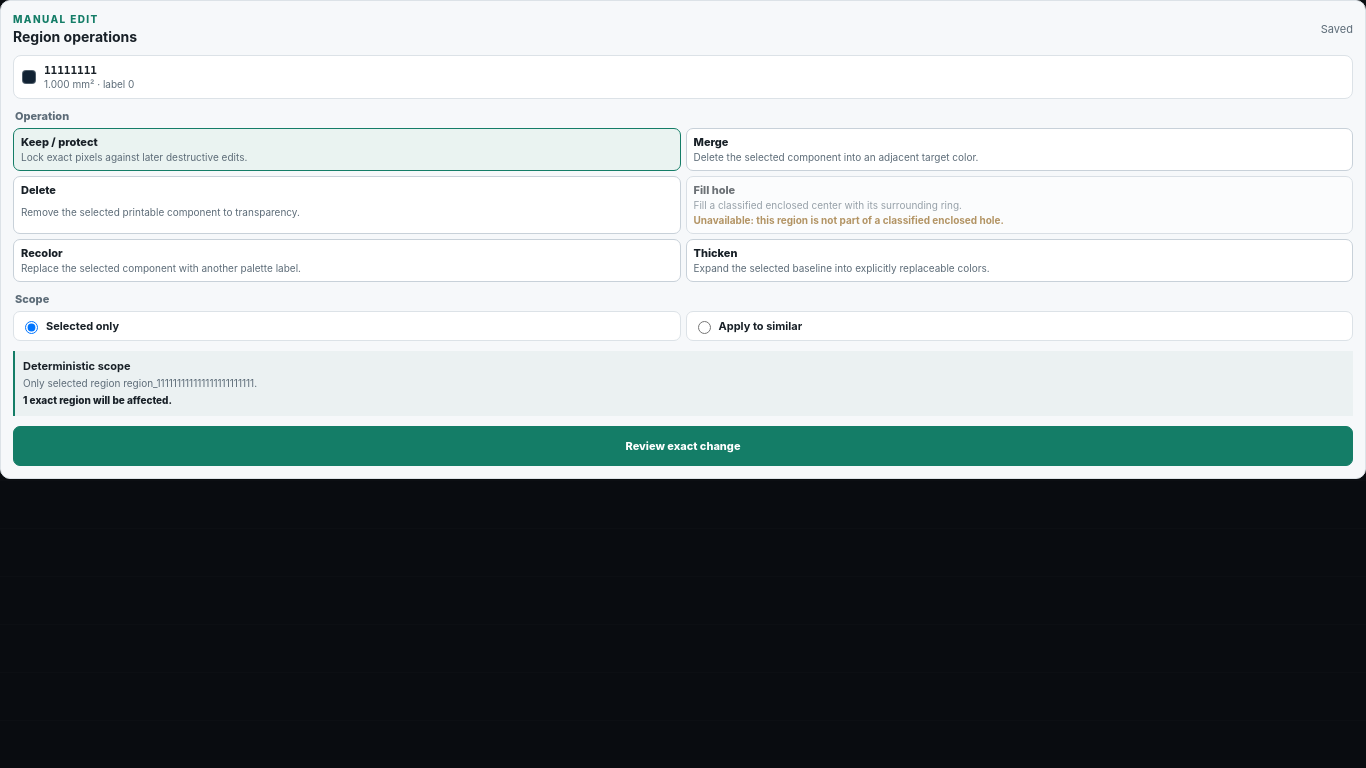
Test: ManualOperationsPanel › locks a second sequential command immediately after the first command commits
Click the button "Review exact change" at (683, 446), box [13, 426, 1353, 466]
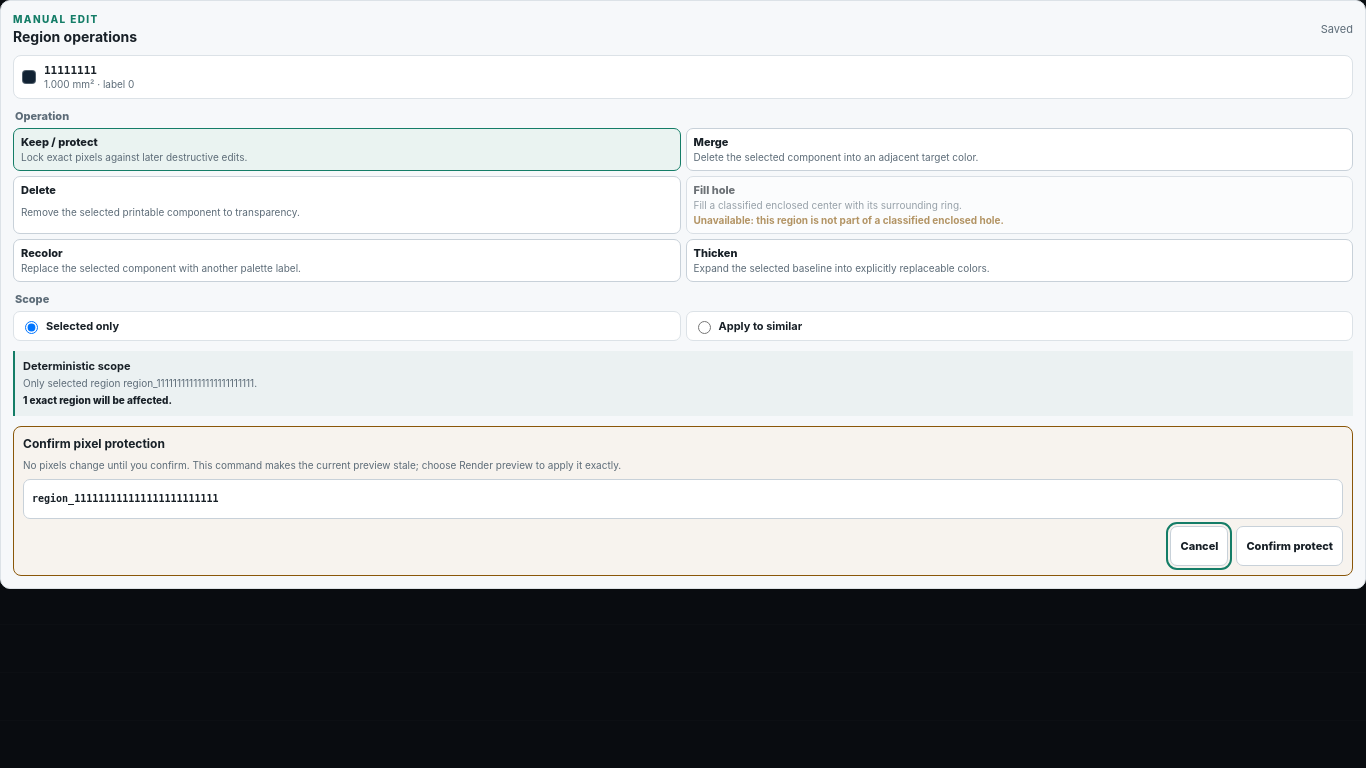
Click the button "Confirm protect" at (1290, 546), box [1236, 526, 1343, 566]
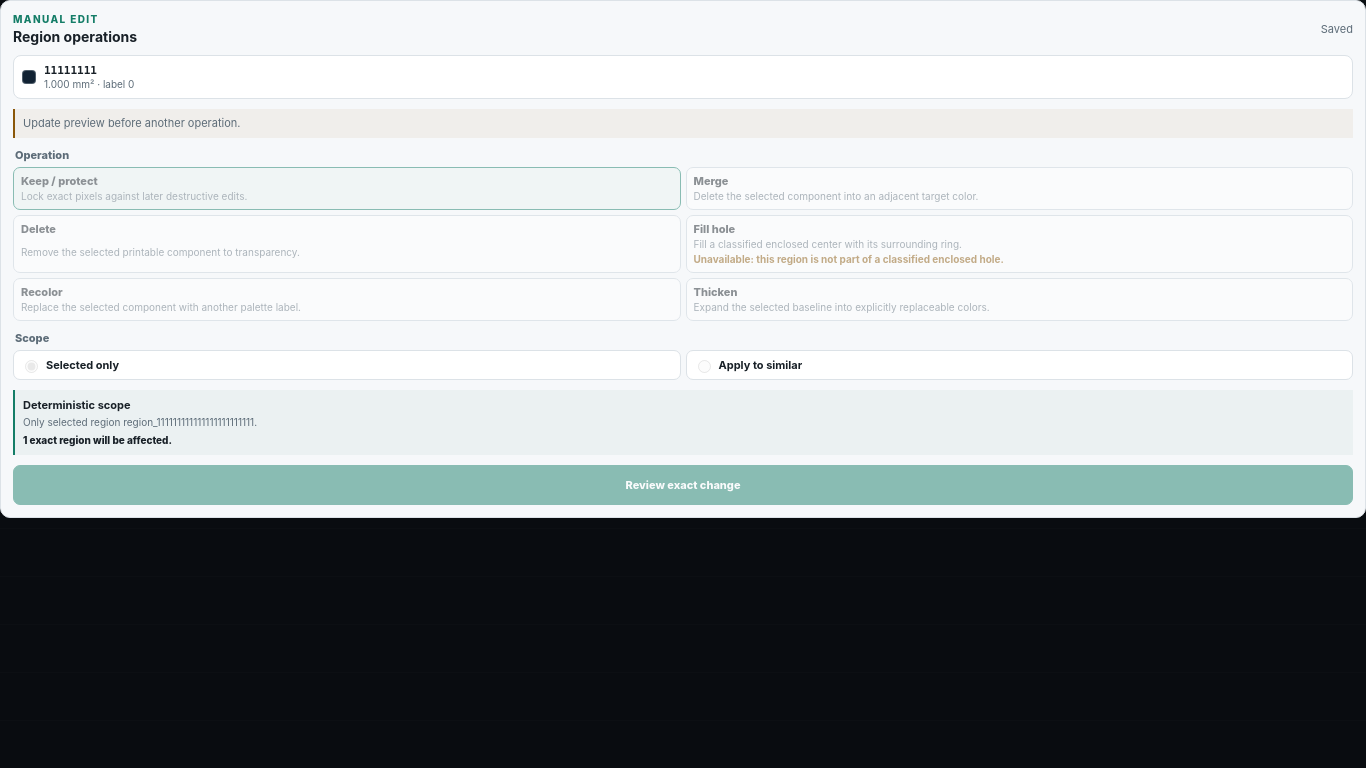
Expected: the text "Update preview before another operation." is shown, [13, 109, 1353, 138]
Expected: the button "Keep / protect" is disabled, [13, 167, 680, 210]
Expected: the button "Review exact change" is disabled, [13, 465, 1353, 505]
